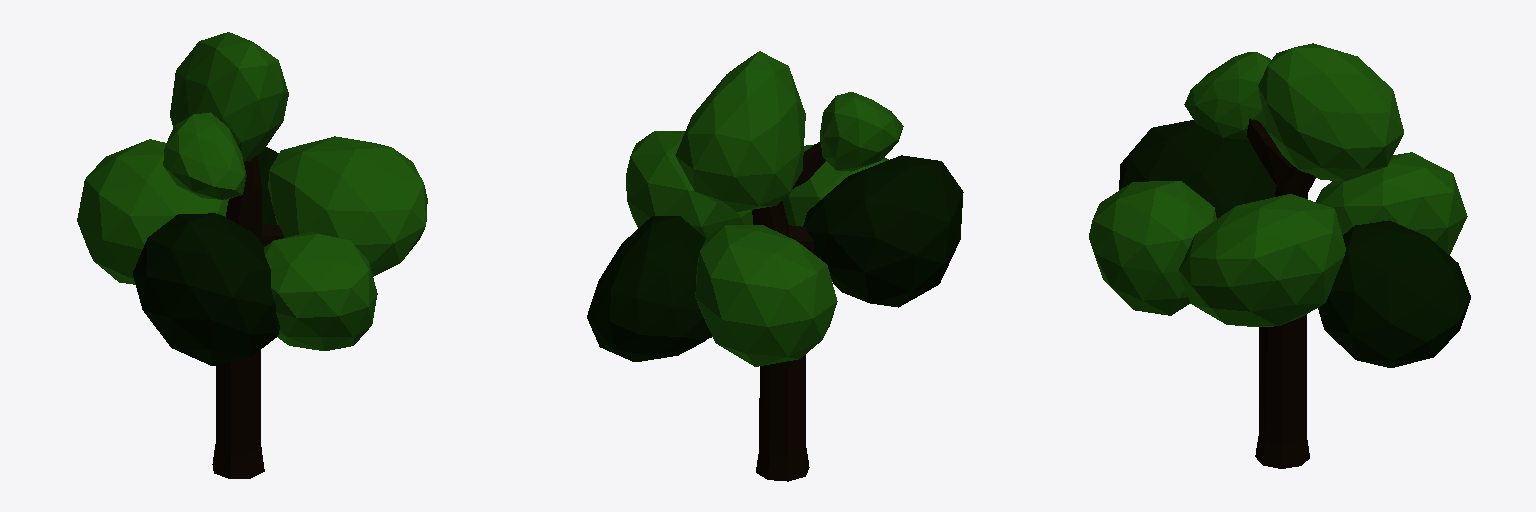
Rendered from TreeSummer.obj.
3 views of the same model, side by side, from view 1: azimuth 30°, elevation 25°; view 2: azimuth 150°, elevation 25°; view 3: azimuth 270°, elevation 25° (orthographic).
Visible parts, largest first — view 1: Cylinder.003_Cylinder.000; view 2: Cylinder.003_Cylinder.000; view 3: Cylinder.003_Cylinder.000.
Part boxes in pixels (left/top/right/bottom): Cylinder.003_Cylinder.000: left=77, top=32, right=427, bottom=478; Cylinder.003_Cylinder.000: left=587, top=51, right=963, bottom=481; Cylinder.003_Cylinder.000: left=1089, top=43, right=1470, bottom=468.
Size of the model in its own units: 11.44 by 15.65 by 12.97.